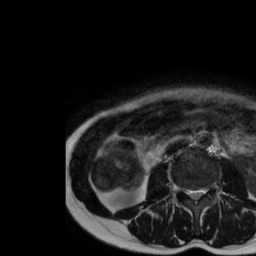CCS_stenosis: (191, 184, 198, 206)
LFS_normal: (205, 178, 211, 197)
LLS_stenosis: (198, 183, 205, 203)
RFS_stenosis: (178, 182, 186, 198)
RLS_stenosis: (186, 183, 192, 204)
